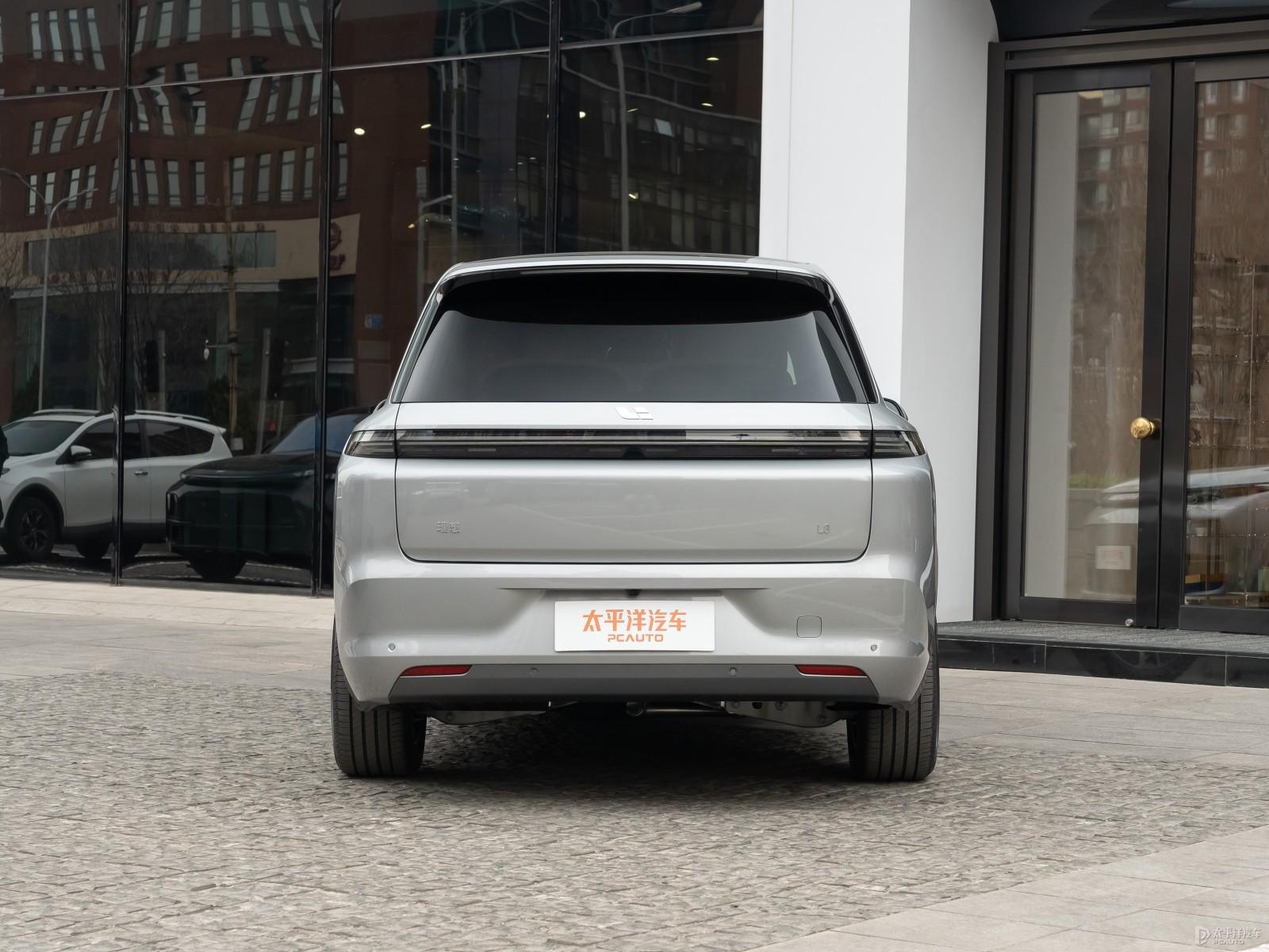Li Auto: (614, 405, 654, 421)
